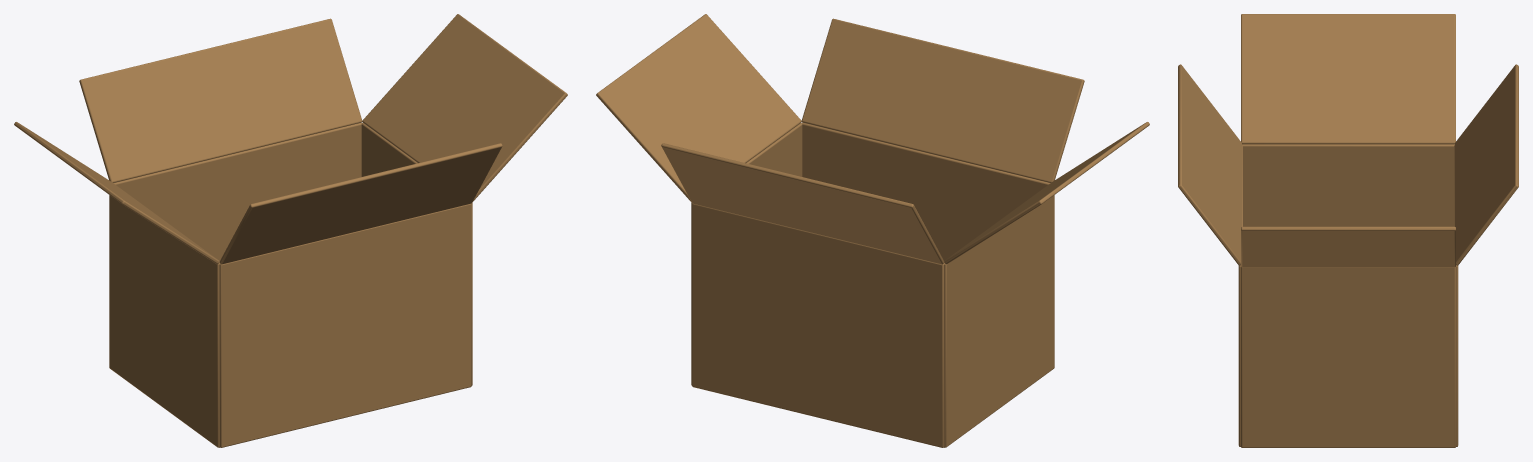
The model's file is item_card_box.fbx.
3 renders of one model, left to right at view 1: azimuth 30°, elevation 25°; view 2: azimuth 150°, elevation 25°; view 3: azimuth 270°, elevation 25°, orthographic.
Parts seen in each view (by area): view 1: item_card_box; view 2: item_card_box; view 3: item_card_box.
Boxes of the visible parts, bbox=[...] form: item_card_box: bbox=[14, 14, 567, 447]; item_card_box: bbox=[596, 14, 1149, 447]; item_card_box: bbox=[1178, 14, 1518, 447].
Bounding box in the file's own units: 0.7086 × 0.41 × 0.4754.
